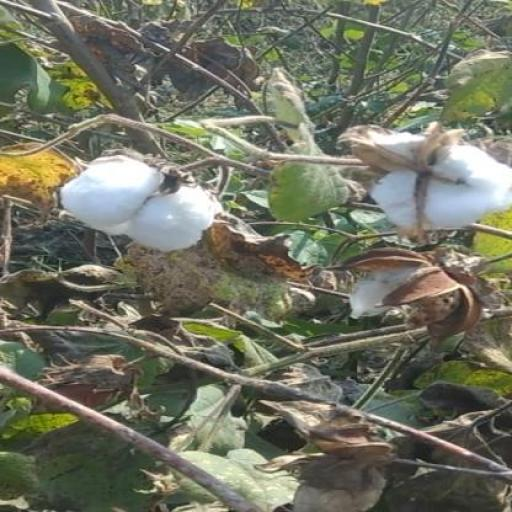cotton_ready: (321, 124, 509, 248), (53, 140, 225, 258)
